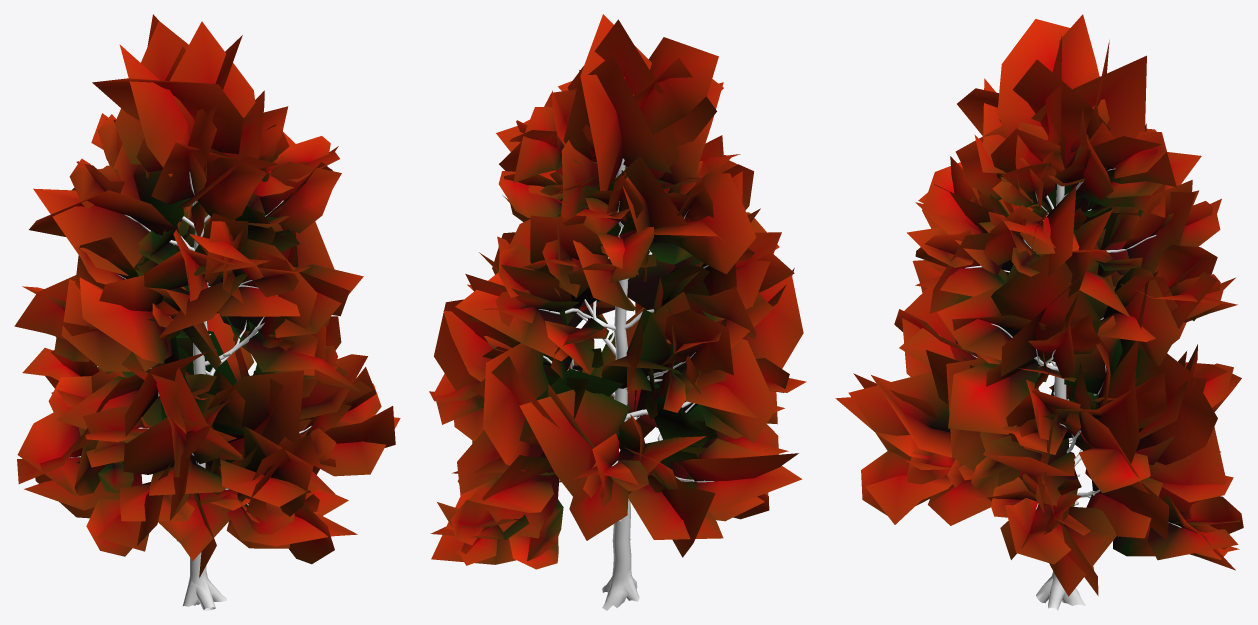
The model's file is ShrubTree(NR)_D.fbx.
3 renders of one model, left to right at view 1: azimuth 30°, elevation 25°; view 2: azimuth 150°, elevation 25°; view 3: azimuth 270°, elevation 25°, orthographic. The views are drawn at different scales.
Visible parts, largest first — view 1: ShrubTree(NR)_D_Leaves_LOD0, ShrubTree(NR)_D_Bark_LOD0; view 2: ShrubTree(NR)_D_Leaves_LOD0, ShrubTree(NR)_D_Bark_LOD0; view 3: ShrubTree(NR)_D_Leaves_LOD0, ShrubTree(NR)_D_Bark_LOD0.
Part boxes in pixels (left/top/right/bottom): ShrubTree(NR)_D_Leaves_LOD0: left=14, top=14, right=400, bottom=577; ShrubTree(NR)_D_Bark_LOD0: left=69, top=171, right=311, bottom=610; ShrubTree(NR)_D_Leaves_LOD0: left=429, top=14, right=806, bottom=569; ShrubTree(NR)_D_Bark_LOD0: left=539, top=158, right=713, bottom=610; ShrubTree(NR)_D_Leaves_LOD0: left=835, top=14, right=1243, bottom=596; ShrubTree(NR)_D_Bark_LOD0: left=965, top=168, right=1181, bottom=610.
Size of what is drawn, in the model's own units: 1095 by 1674 by 1086.
